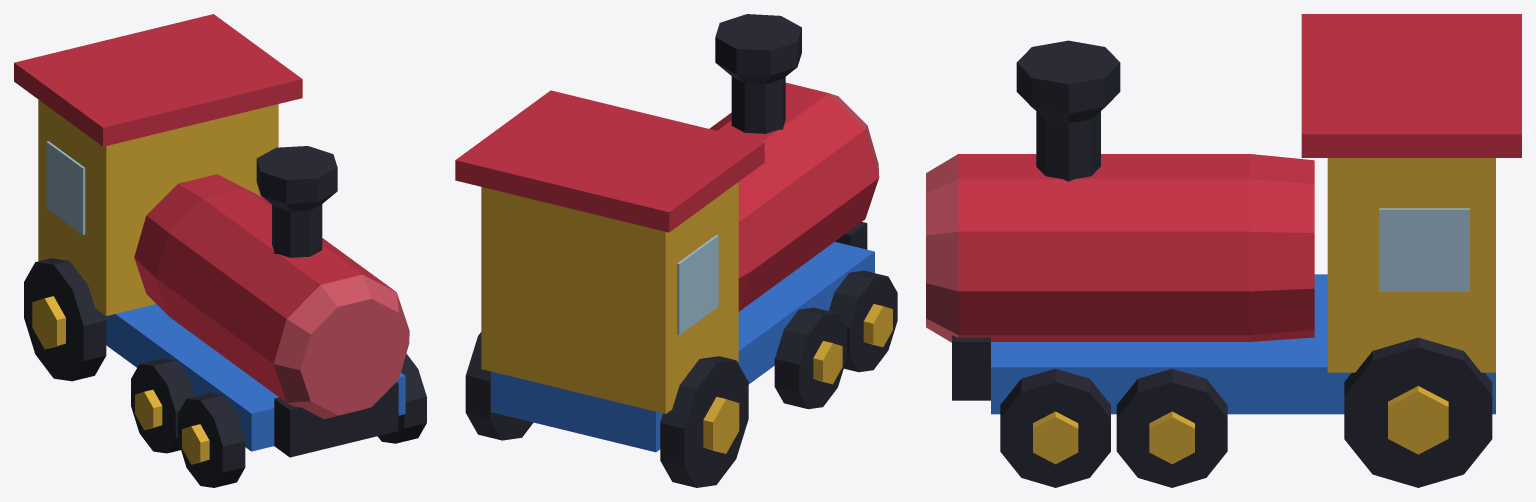
The model's file is toy_train.glb.
The picture shows the model from 3 angles, left to right: view 1: azimuth 30°, elevation 25°; view 2: azimuth 150°, elevation 25°; view 3: azimuth 270°, elevation 25°; orthographic projection. The views are drawn at different scales.
Visible parts, largest first — view 1: toy_train; view 2: toy_train; view 3: toy_train.
Part boxes in pixels (<box>): toy_train: <box>14,14,426,487</box>; toy_train: <box>455,14,897,487</box>; toy_train: <box>926,14,1521,487</box>.
Bounding box in the file's own units: 0.49 × 0.62 × 0.92.
